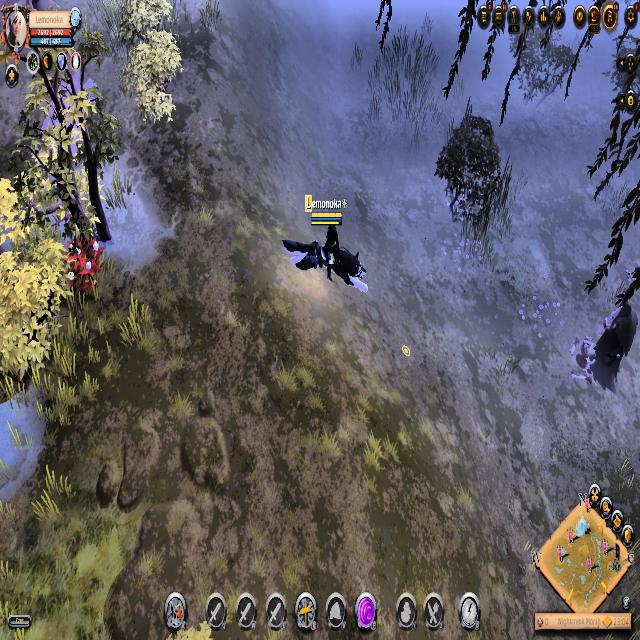fiber tier 5: (68, 231, 108, 301)
